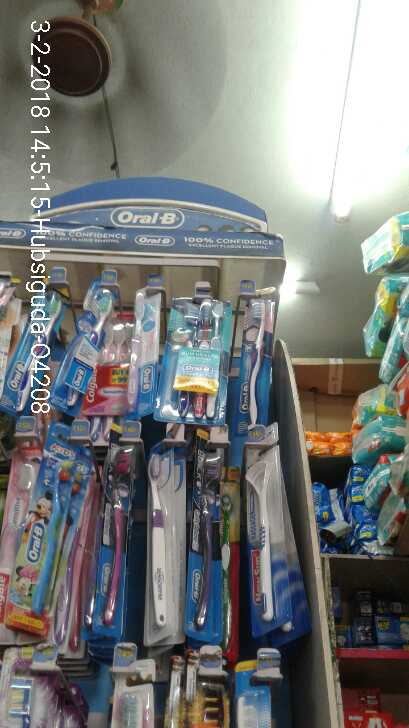oralb: (159, 297, 226, 420), (241, 294, 270, 424), (128, 283, 157, 412)
